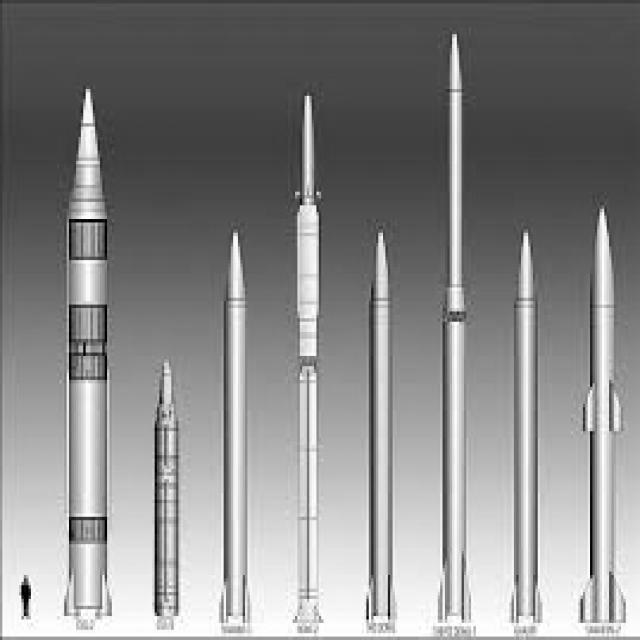missile: (58, 85, 118, 629), (282, 70, 326, 638), (435, 24, 473, 631), (576, 191, 625, 638), (357, 193, 401, 640), (504, 210, 550, 636), (220, 223, 253, 636)
